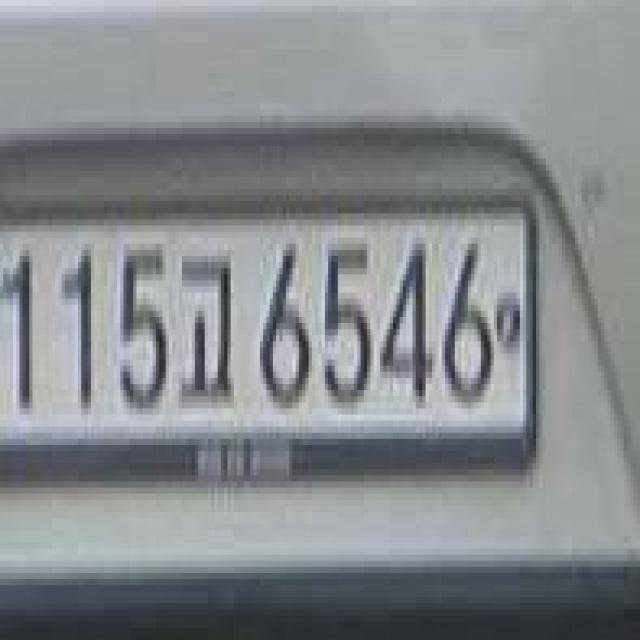illegal_plate: (4, 187, 546, 498)
